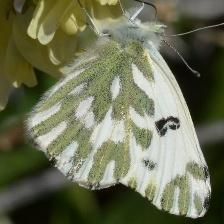butterfly: (28, 16, 211, 218)
